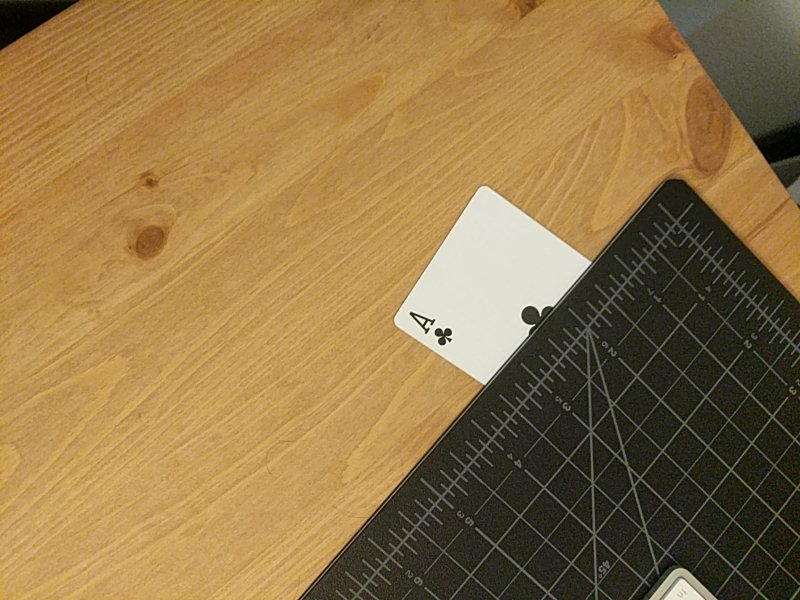Clubs: (393, 185, 603, 381)
